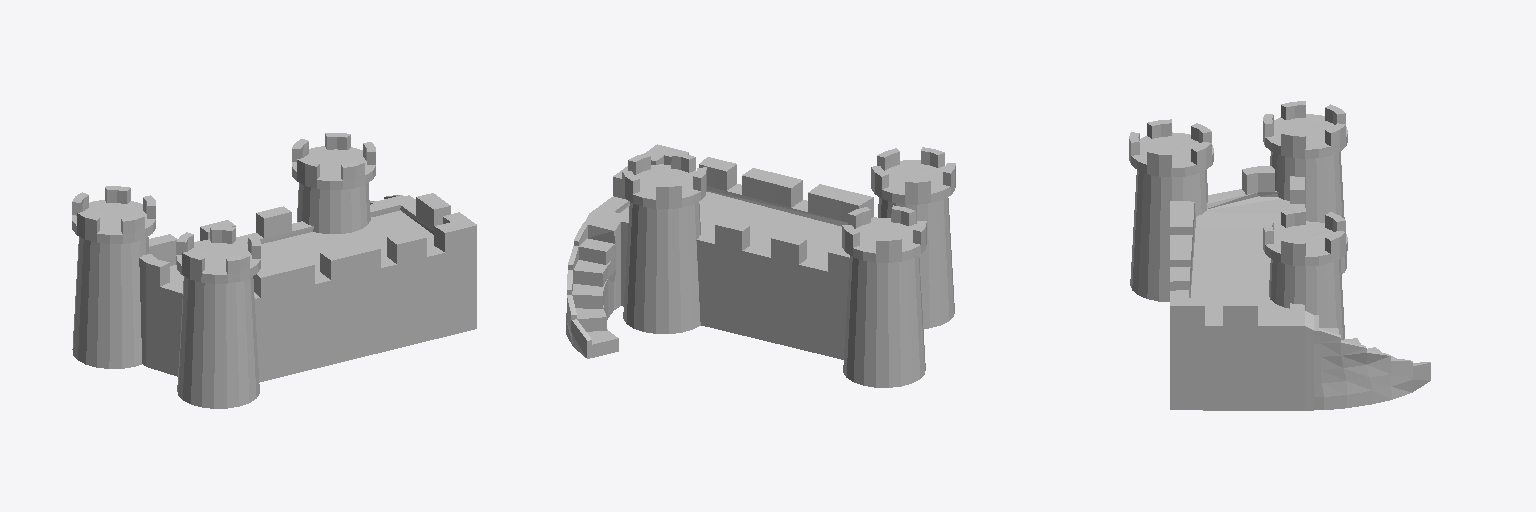
Rendered from Castle.obj.
3 views of the same model, side by side, from view 1: azimuth 30°, elevation 25°; view 2: azimuth 150°, elevation 25°; view 3: azimuth 270°, elevation 25° (orthographic).
Visible parts, largest first — view 1: polySurface5; view 2: polySurface5; view 3: polySurface5.
Boxes of the visible parts, x1,y1,x2,y2 form: polySurface5: [72, 133, 476, 408]; polySurface5: [566, 144, 955, 387]; polySurface5: [1129, 101, 1430, 410].
Bounding box in the file's own units: 9.23 × 3.93 × 7.26.